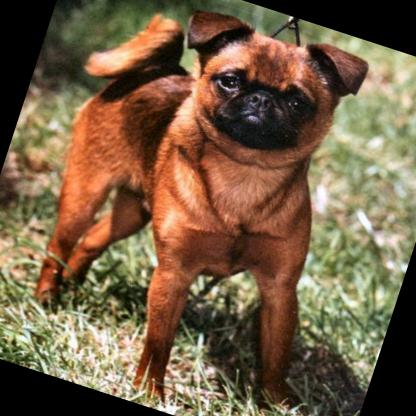Brabancon_griffon: (0, 0, 403, 416)
